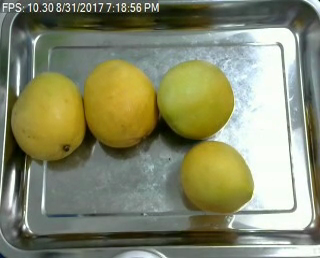Mango: (81, 58, 159, 146), (12, 71, 83, 161), (159, 58, 233, 137), (179, 141, 254, 211)
